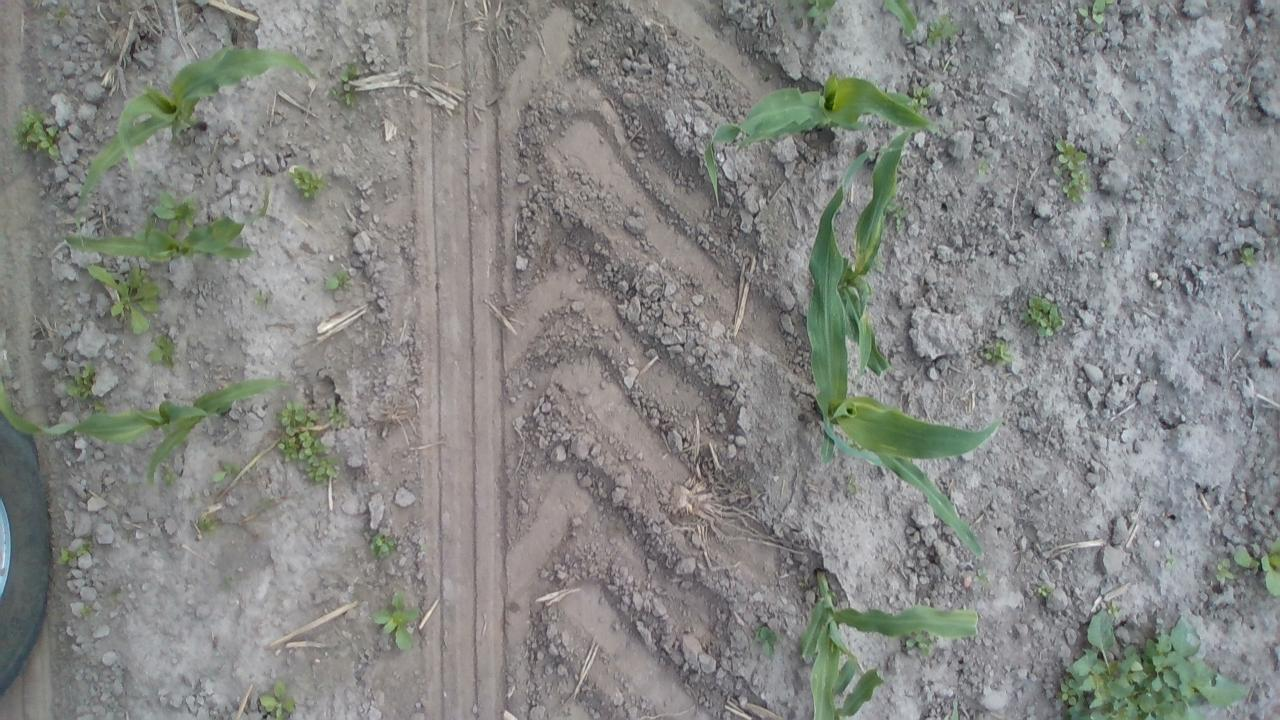Maize: (798, 182, 1004, 564), (72, 48, 322, 204), (0, 374, 299, 488), (701, 71, 934, 210), (795, 560, 983, 720), (839, 122, 933, 374), (48, 167, 277, 263), (882, 0, 914, 39)
Weeds: (1064, 604, 1250, 719), (274, 396, 344, 486), (84, 261, 162, 340), (10, 103, 68, 160), (369, 590, 422, 652), (1232, 535, 1280, 597), (1051, 137, 1094, 203), (1016, 288, 1064, 340), (327, 58, 362, 110), (257, 680, 297, 720), (922, 12, 962, 48), (64, 360, 100, 400), (747, 624, 780, 666), (145, 330, 179, 370), (364, 522, 398, 561), (286, 166, 324, 200), (979, 336, 1014, 368), (902, 632, 940, 659), (806, 0, 836, 31), (322, 266, 351, 294), (210, 459, 242, 484), (886, 200, 906, 235), (1078, 0, 1108, 23), (1213, 556, 1235, 585), (1054, 680, 1076, 708), (1028, 575, 1051, 600), (910, 83, 931, 108), (54, 546, 77, 568), (193, 511, 214, 533), (1238, 246, 1256, 270), (971, 568, 990, 586), (52, 3, 70, 22), (160, 466, 176, 487), (250, 289, 269, 306), (106, 586, 125, 603), (1134, 132, 1150, 152), (1105, 598, 1121, 618), (74, 538, 91, 556), (79, 602, 94, 622), (1160, 550, 1176, 568), (978, 154, 991, 176), (89, 402, 109, 416), (846, 472, 858, 495), (1100, 236, 1113, 250), (1106, 0, 1115, 6)
